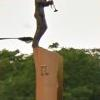Statue: (21, 0, 64, 55)
